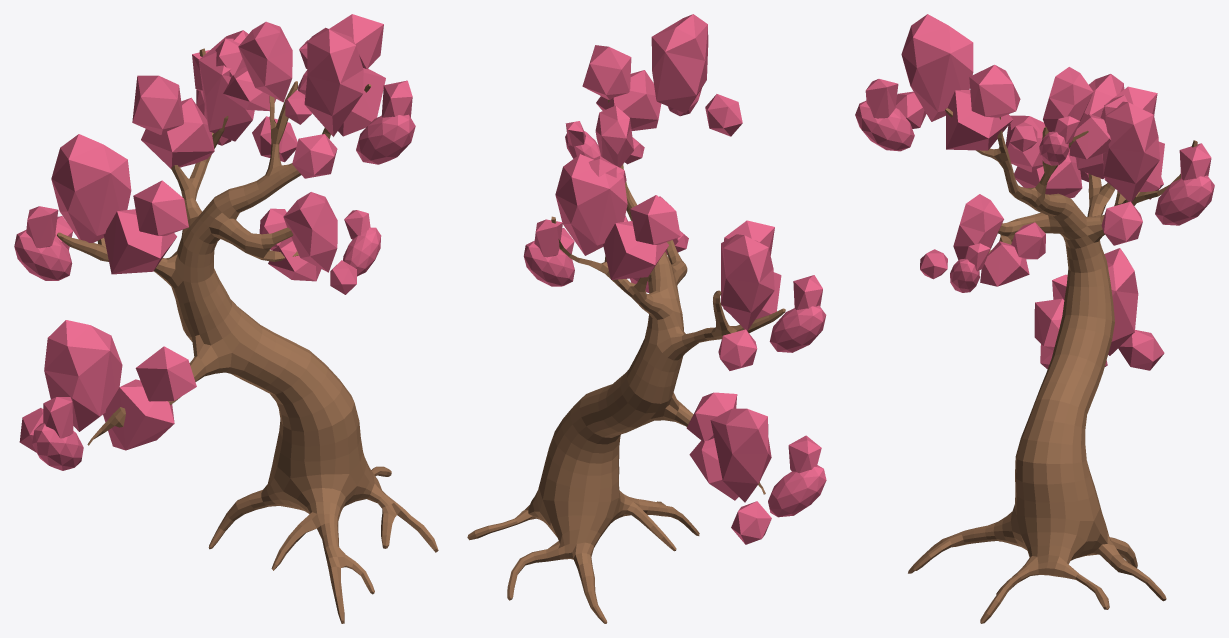
Rendered from Japan_tree_v03.fbx.
3 views of the same model, side by side, from view 1: azimuth 30°, elevation 25°; view 2: azimuth 150°, elevation 25°; view 3: azimuth 270°, elevation 25° (orthographic). The views are drawn at different scales.
Parts seen in each view (by area): view 1: Japan_tree_v03; view 2: Japan_tree_v03; view 3: Japan_tree_v03.
Boxes of the visible parts, box(x1,y1,x2,y2) form: Japan_tree_v03: box(14, 14, 438, 623); Japan_tree_v03: box(467, 14, 826, 623); Japan_tree_v03: box(855, 14, 1214, 623).
Size of the model in its own units: 71.9 by 106 by 61.2.
Materials: 1 (1 with a texture image).
